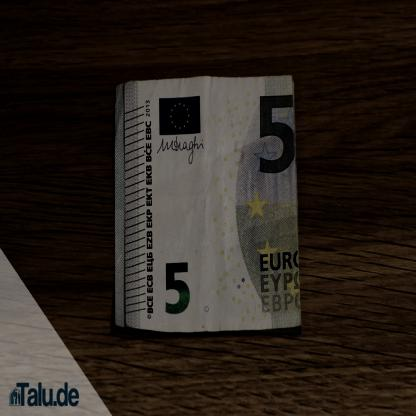euro_banknote: (80, 112, 337, 298)
